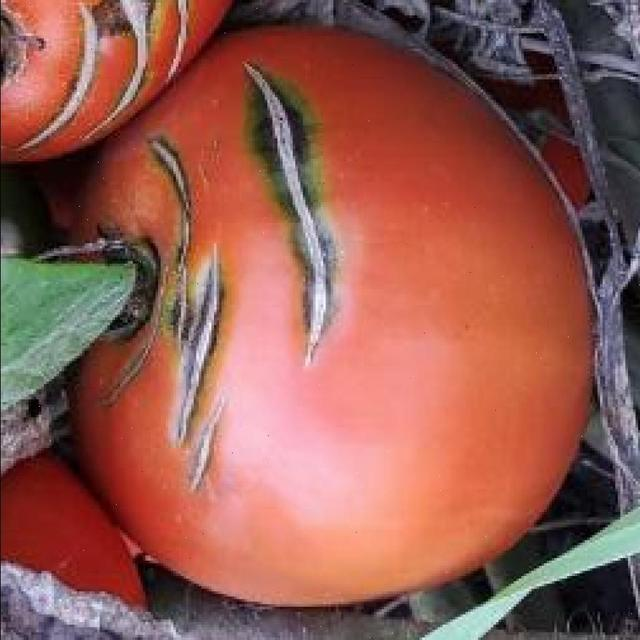Cracking Fruit: (17, 31, 192, 298)
